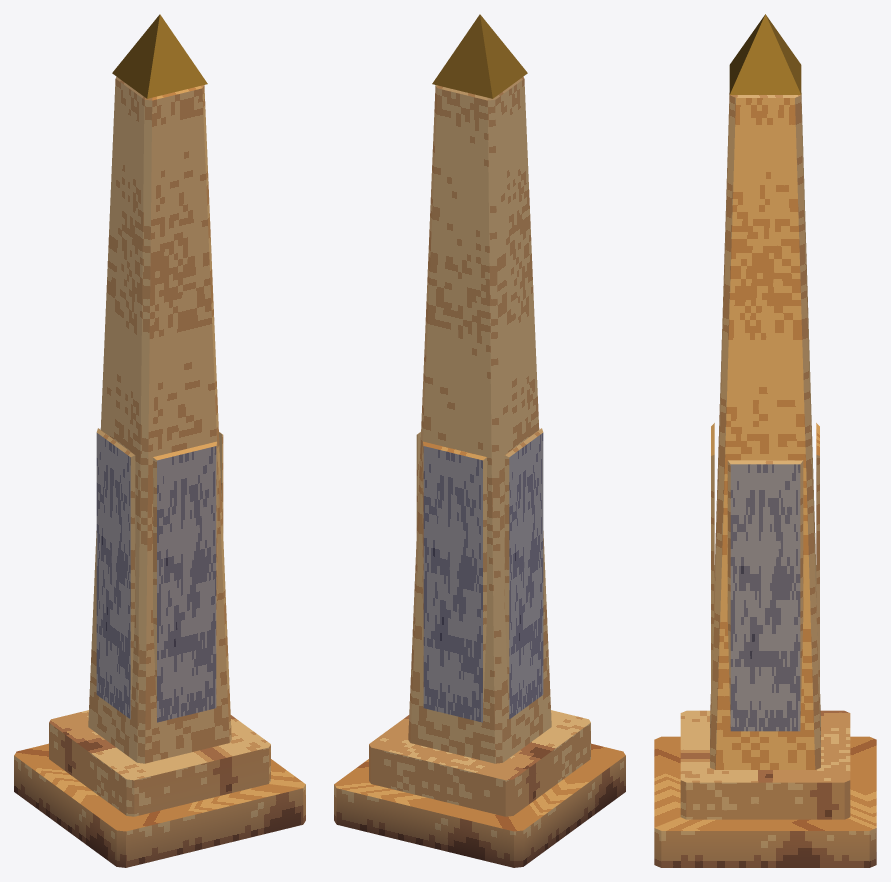
The model's file is ruin.obelisk.glb.
The picture shows the model from 3 angles, left to right: view 1: azimuth 30°, elevation 25°; view 2: azimuth 150°, elevation 25°; view 3: azimuth 270°, elevation 25°; orthographic projection.
Parts seen in each view (by area): view 1: kit_shaft, kit_base, kit_glyphs, kit_cap; view 2: kit_shaft, kit_base, kit_glyphs, kit_cap; view 3: kit_shaft, kit_base, kit_glyphs, kit_cap.
Part boxes in pixels (x1,y1,x2,y2): kit_shaft: [88, 77, 231, 763]; kit_base: [14, 710, 305, 867]; kit_glyphs: [96, 428, 223, 722]; kit_cap: [112, 14, 207, 98]; kit_shaft: [408, 77, 551, 763]; kit_base: [334, 710, 625, 867]; kit_glyphs: [416, 428, 543, 722]; kit_cap: [432, 14, 527, 98]; kit_shaft: [710, 93, 820, 769]; kit_base: [654, 710, 876, 867]; kit_glyphs: [711, 423, 819, 731]; kit_cap: [729, 14, 801, 94].
Size of the model in its own units: 1.9 by 7.6 by 1.9.
4 materials, 3 textured.
